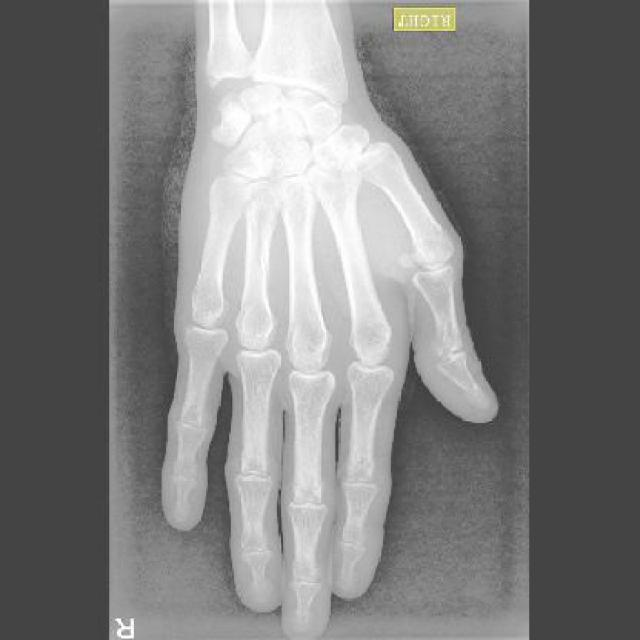Fracture: (243, 205, 277, 279)
